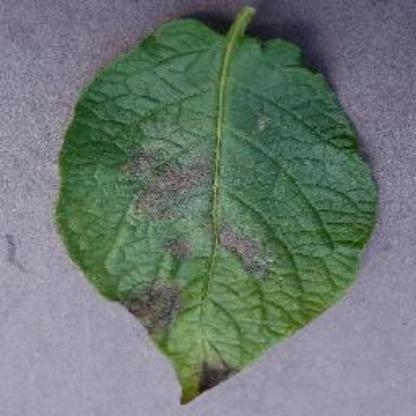Late-Blight: (53, 3, 390, 402)
